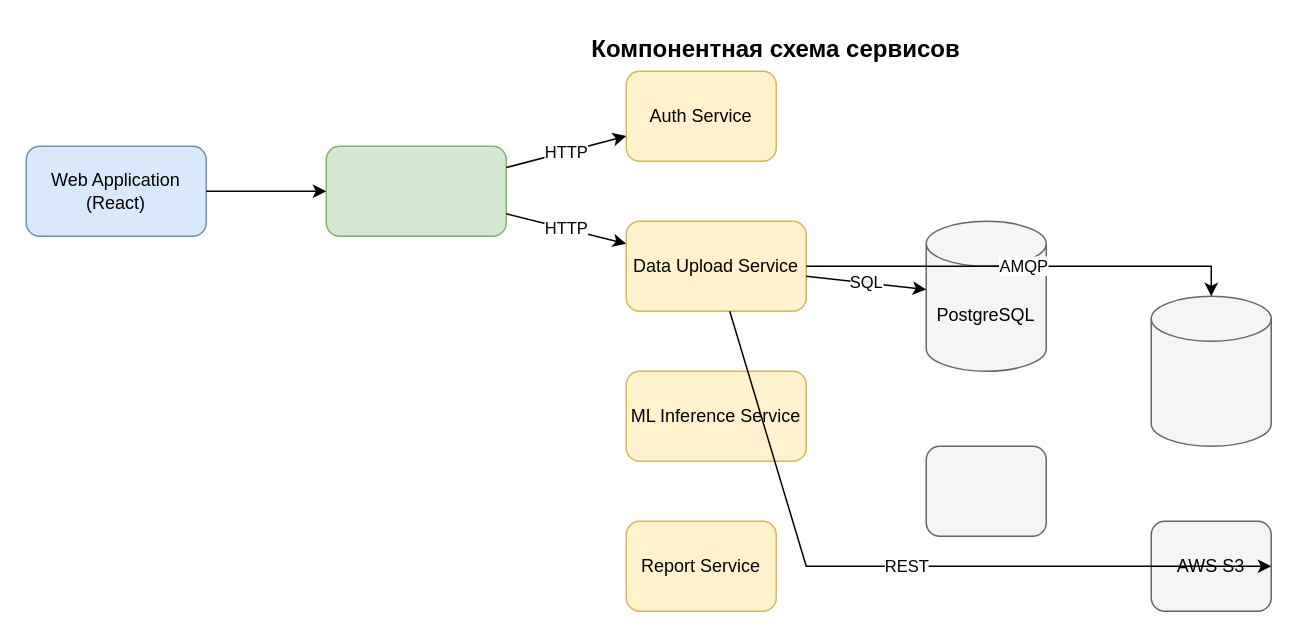
Image size: 1310x638. Some labels were removed from this diagram. Here are the shapes that lost their labels. From the top down, the box of each, then its label:
(325, 145, 506, 236): API Gateway (Spring Cloud)
(1150, 295, 1271, 446): RabbitMQ
(925, 445, 1046, 536): Redis
